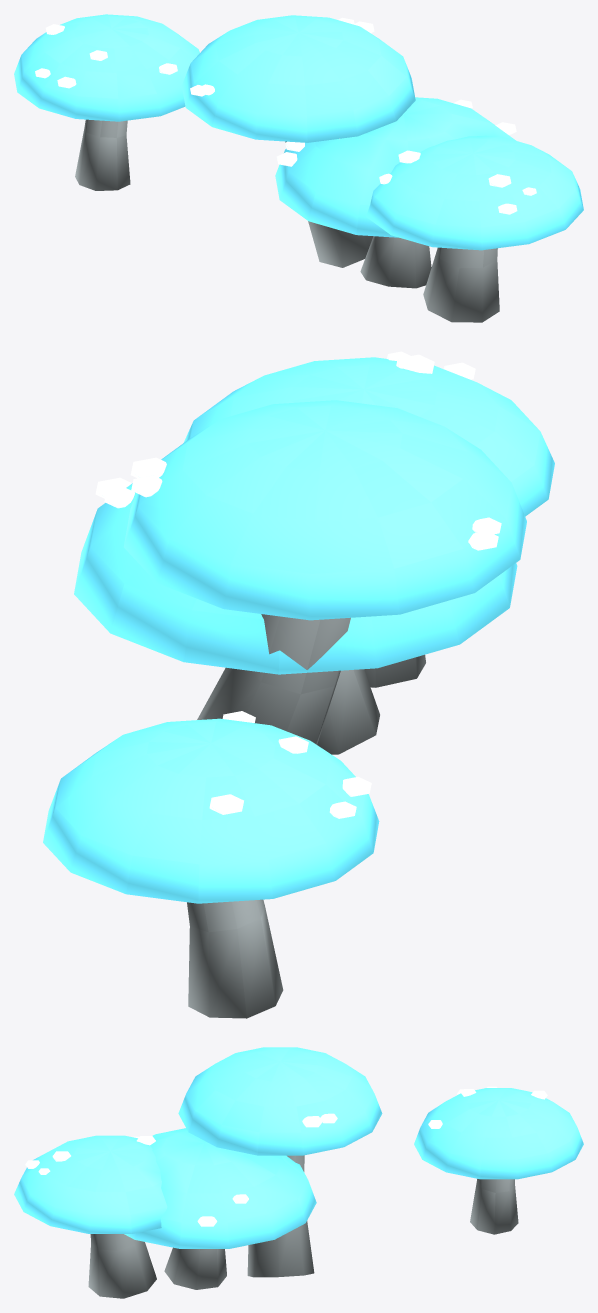
The model's file is obj_deco_hongos_3.glb.
3 renders of one model, top to bottom at view 1: azimuth 30°, elevation 25°; view 2: azimuth 150°, elevation 25°; view 3: azimuth 270°, elevation 25°, orthographic. The views are drawn at different scales.
Parts seen in each view (by area): view 1: propforge-libre-deco_hongos; view 2: propforge-libre-deco_hongos; view 3: propforge-libre-deco_hongos.
Part boxes in pixels (x1,y1,x2,y2): propforge-libre-deco_hongos: (14, 14, 583, 322); propforge-libre-deco_hongos: (43, 351, 554, 1018); propforge-libre-deco_hongos: (14, 1047, 583, 1298).
Size of the model in its own units: 0.4162 by 0.293 by 0.7496.
